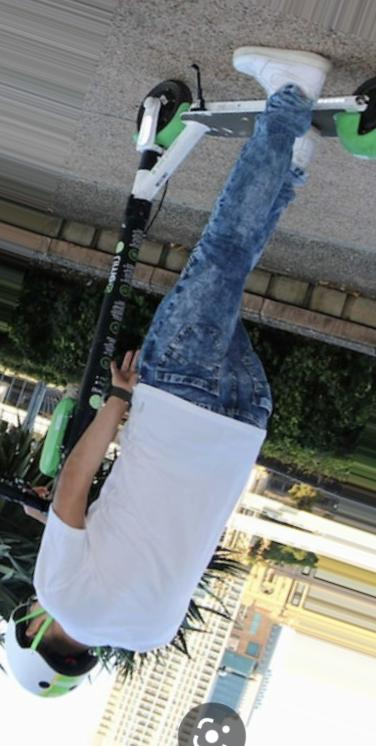scooter: (1, 73, 376, 524)
with helmet: (4, 596, 99, 704)
